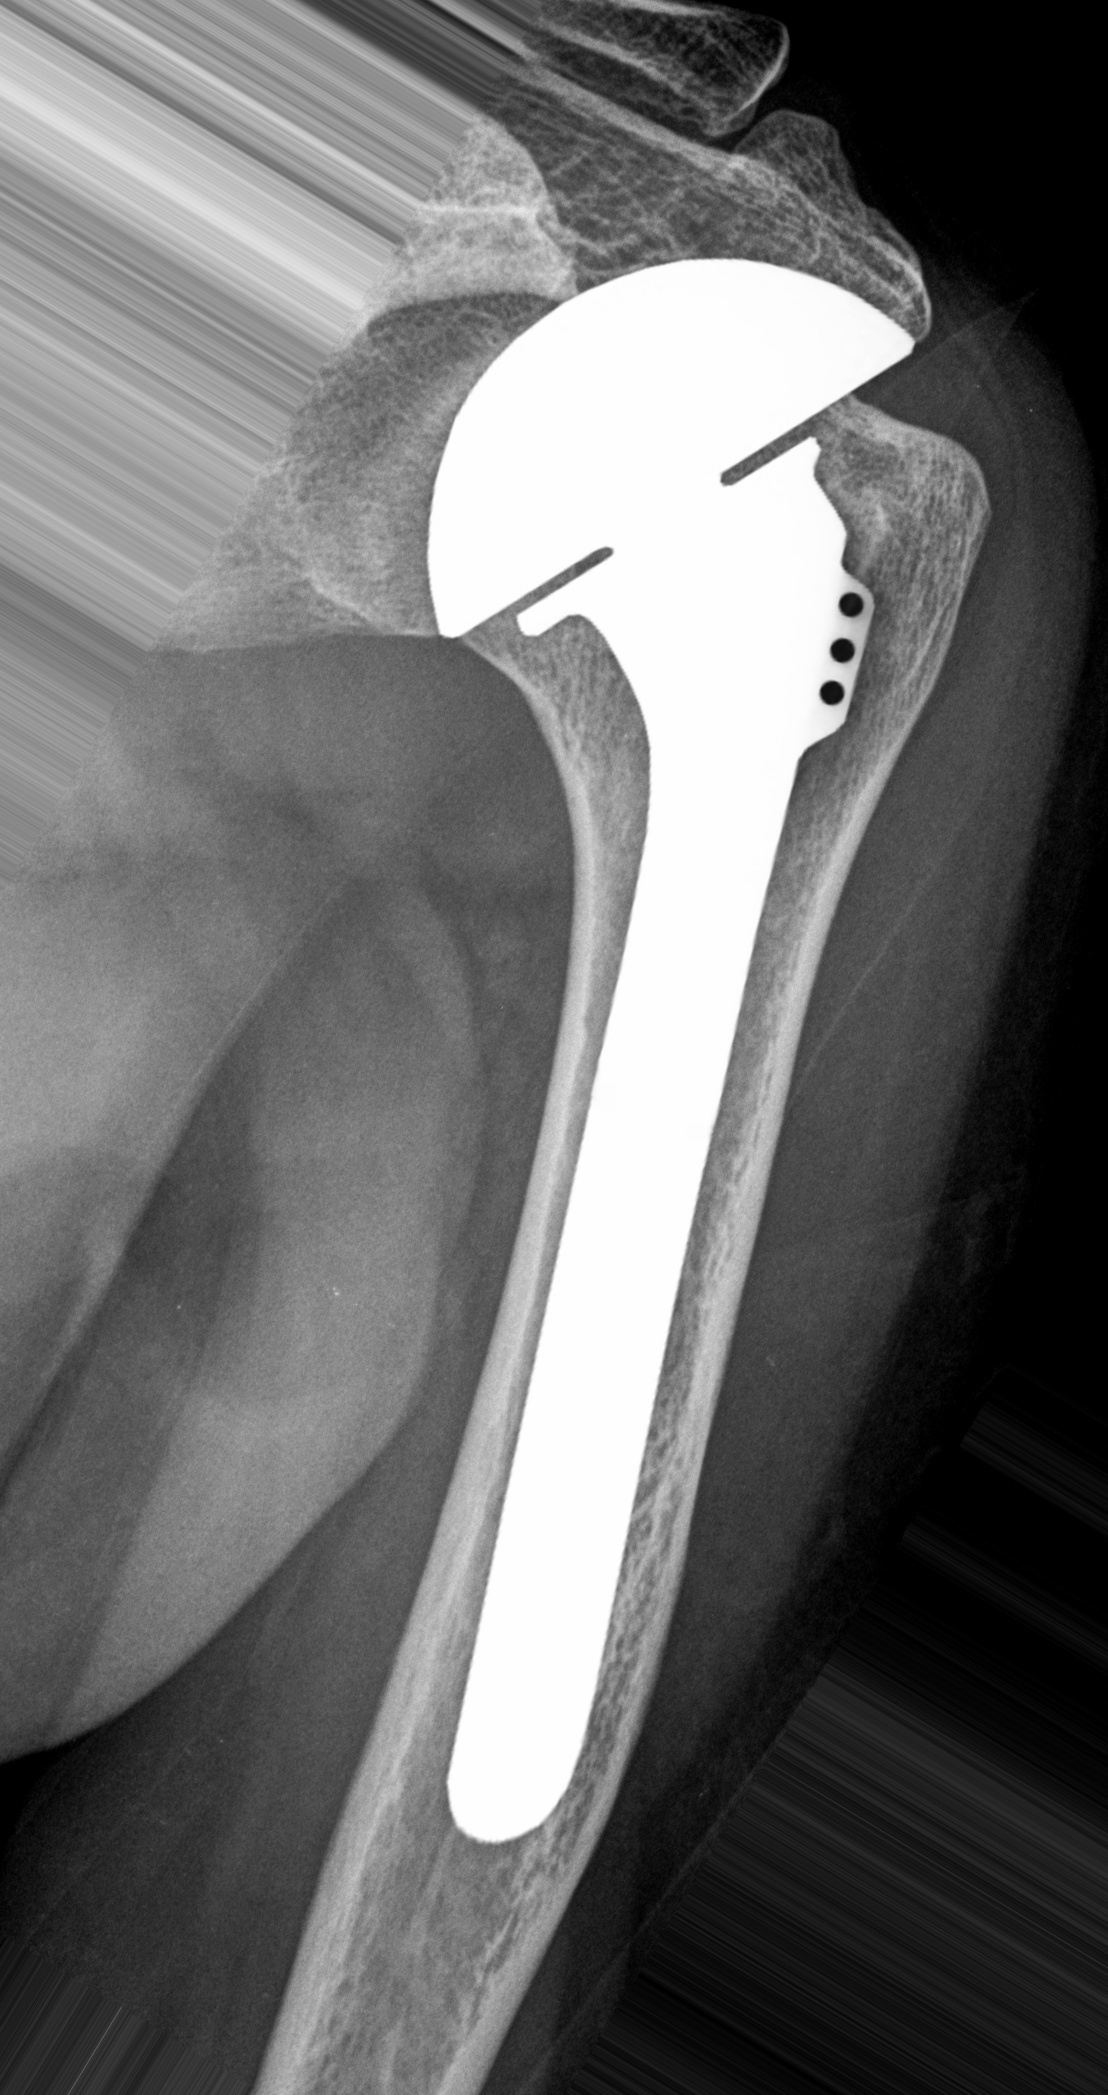Shoulder-Olympia-Wright: (314, 236, 920, 1862)
